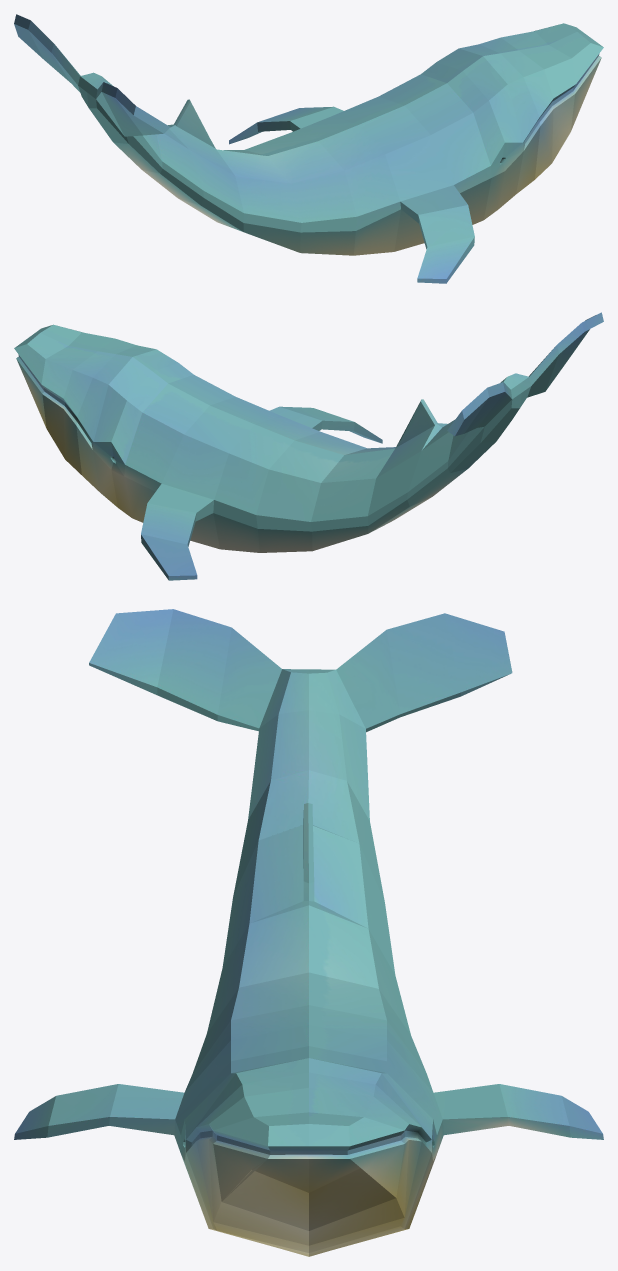
Rendered from whale.glb.
3 views of the same model, one above another, from view 1: azimuth 30°, elevation 25°; view 2: azimuth 150°, elevation 25°; view 3: azimuth 270°, elevation 25° (orthographic). The views are drawn at different scales.
Visible parts, largest first — view 1: Sdsdfsdfsdf1_Group1; view 2: Sdsdfsdfsdf1_Group1; view 3: Sdsdfsdfsdf1_Group1.
Part boxes in pixels (left/top/right/bottom): Sdsdfsdfsdf1_Group1: left=14, top=14, right=603, bottom=283; Sdsdfsdfsdf1_Group1: left=14, top=312, right=603, bottom=580; Sdsdfsdfsdf1_Group1: left=14, top=609, right=603, bottom=1256.
Bounding box in the file's own units: 0.1747 × 0.0808 × 0.1153.
1 material, 1 textured.
